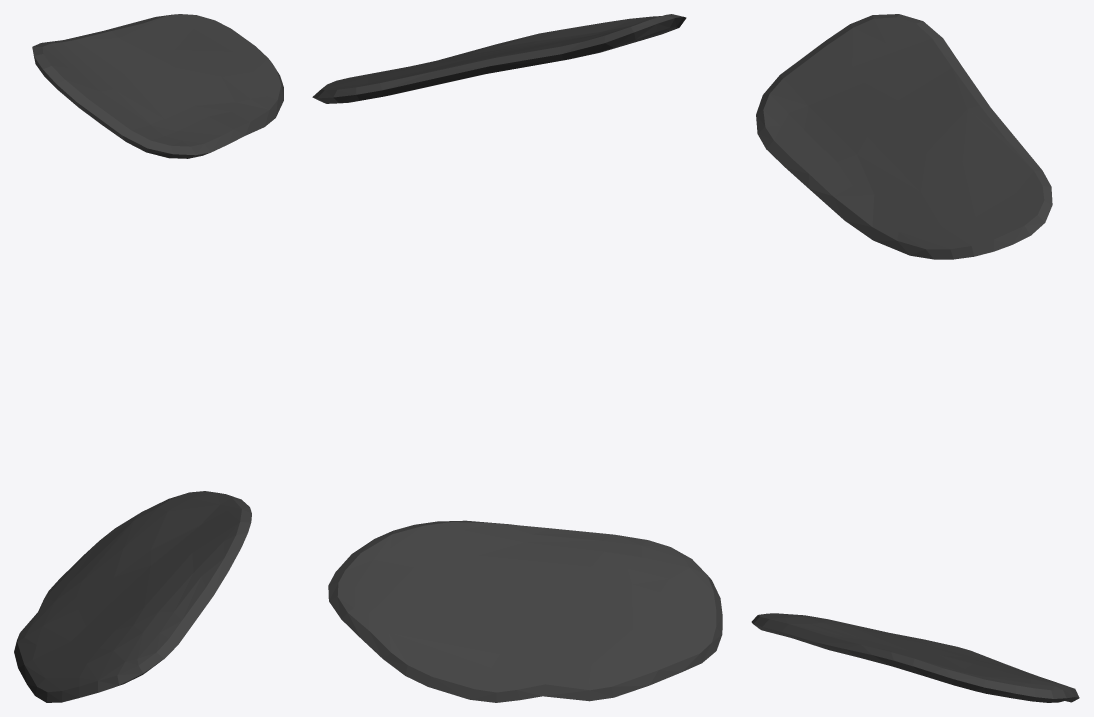
Rendered from Pelvis_auricular_surface.glb.
The picture shows the model from 3 angles, left to right: view 1: azimuth 30°, elevation 25°; view 2: azimuth 150°, elevation 25°; view 3: azimuth 270°, elevation 25°; orthographic projection. The views are drawn at different scales.
Parts seen in each view (by area): view 1: Pelvis_auricular_surface; view 2: Pelvis_auricular_surface; view 3: Pelvis_auricular_surface.
Part boxes in pixels (x1=…): Pelvis_auricular_surface: x1=14, y1=14, x2=283, y2=702; Pelvis_auricular_surface: x1=312, y1=14, x2=722, y2=702; Pelvis_auricular_surface: x1=751, y1=14, x2=1079, y2=702.
Size of the model in its own units: 1.37 by 2.74 by 1.27.
Materials: 1 (1 with a texture image).
